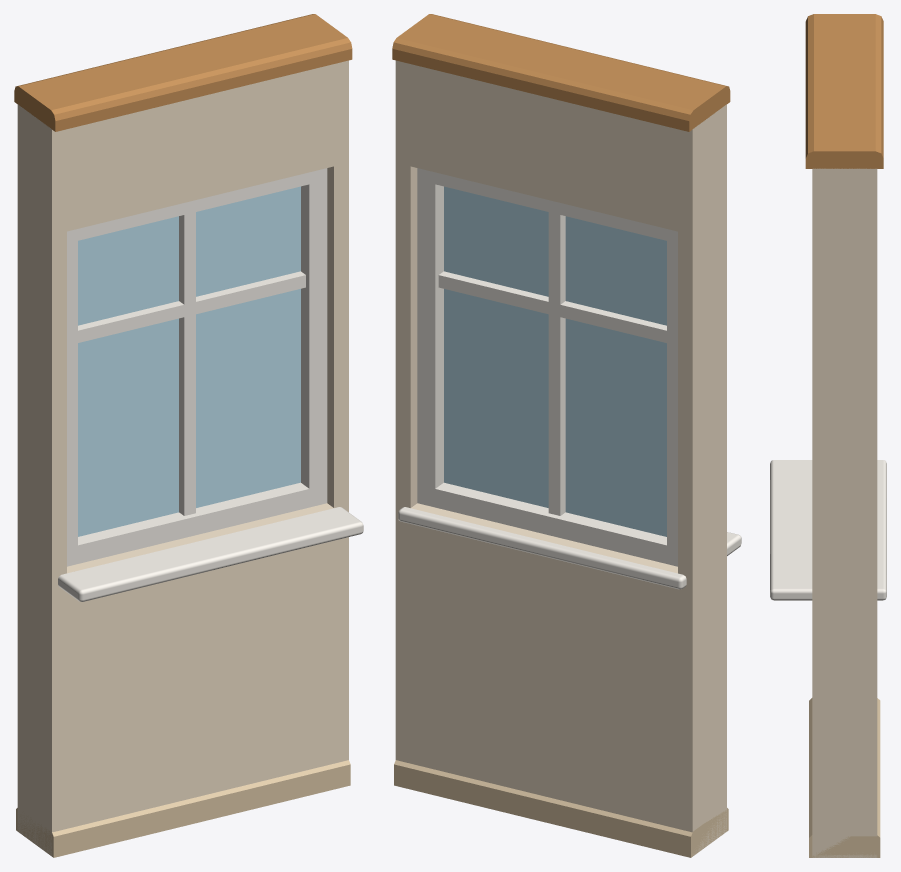
Rendered from wg_wand_voll_fenster.glb.
The picture shows the model from 3 angles, left to right: view 1: azimuth 30°, elevation 25°; view 2: azimuth 150°, elevation 25°; view 3: azimuth 270°, elevation 25°; orthographic projection. The views are drawn at different scales.
Visible parts, largest first — view 1: wg_wand_voll_fenster; view 2: wg_wand_voll_fenster; view 3: wg_wand_voll_fenster.
Boxes of the visible parts, bbox=[...] form: wg_wand_voll_fenster: bbox=[14, 14, 363, 857]; wg_wand_voll_fenster: bbox=[392, 14, 741, 857]; wg_wand_voll_fenster: bbox=[770, 14, 886, 857].
Bounding box in the file's own units: 1 × 2.4 × 0.36.
